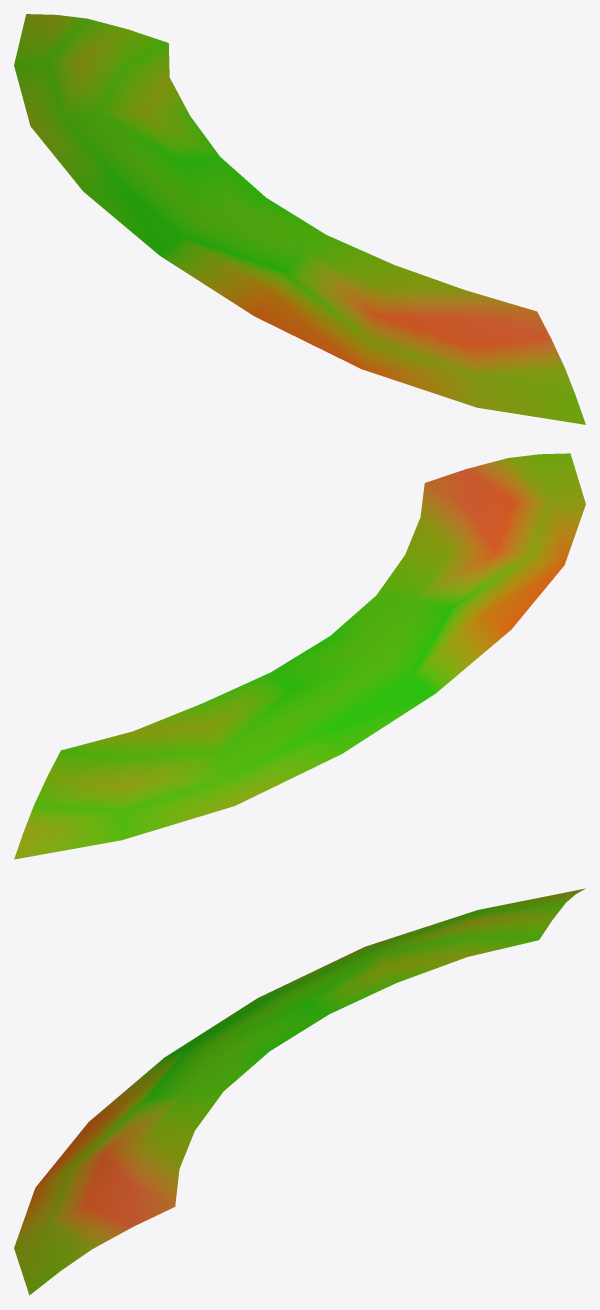
Rendered from sertz__uni_scythe.glb.
The picture shows the model from 3 angles, top to bottom: view 1: azimuth 30°, elevation 25°; view 2: azimuth 150°, elevation 25°; view 3: azimuth 330°, elevation 25°; orthographic projection.
Visible parts, largest first — view 1: uni_scythe; view 2: uni_scythe; view 3: uni_scythe.
Boxes of the visible parts, x1,y1,x2,y2 form: uni_scythe: (14, 14, 585, 424); uni_scythe: (14, 453, 585, 859); uni_scythe: (14, 888, 585, 1295).
Bounding box in the file's own units: 24 × 4 × 120.
